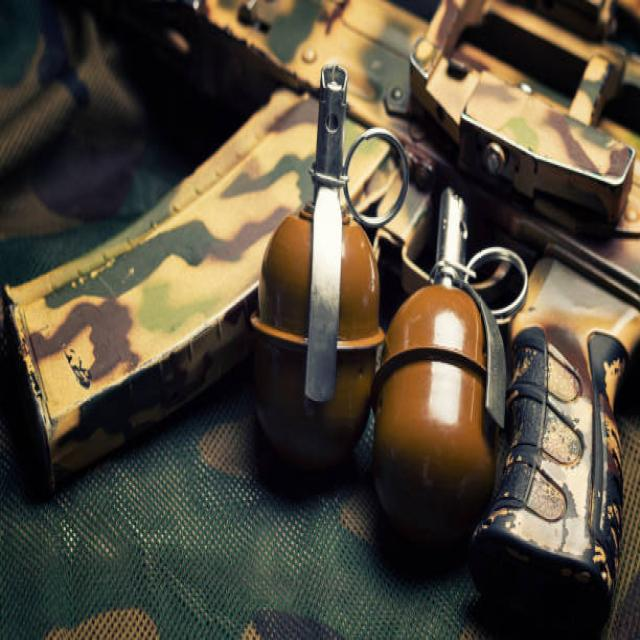grenade: (253, 56, 411, 480), (376, 177, 538, 541)
